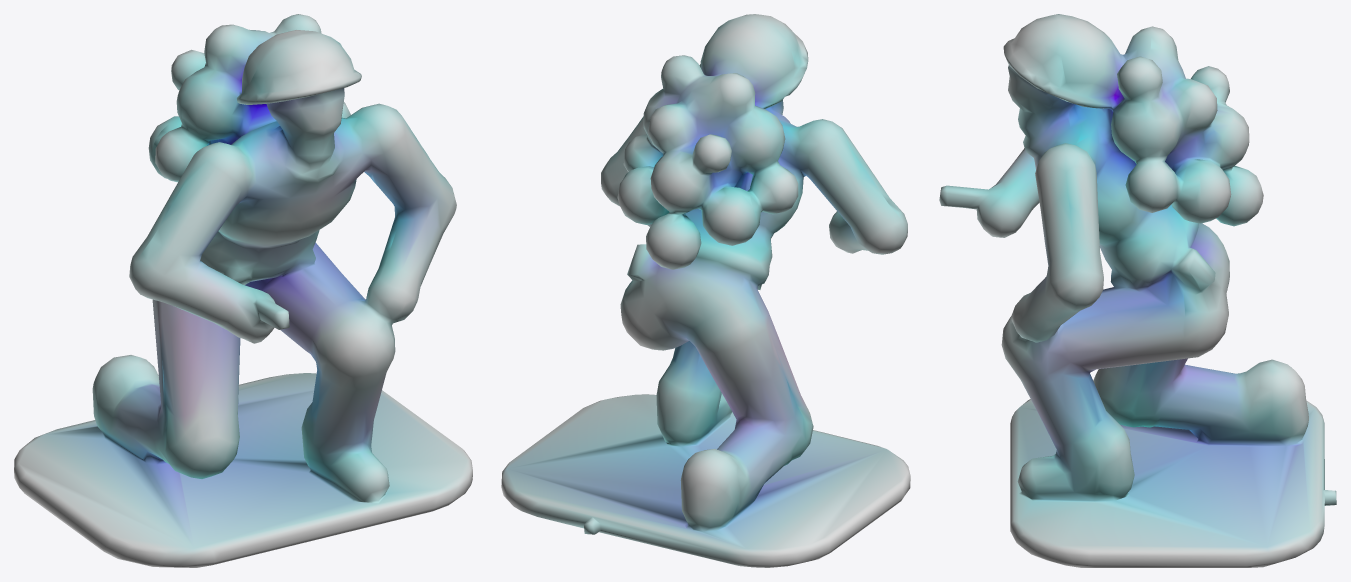
File: spion-lod1.glb
3 views of the same model, side by side, from view 1: azimuth 30°, elevation 25°; view 2: azimuth 150°, elevation 25°; view 3: azimuth 270°, elevation 25° (orthographic). The views are drawn at different scales.
Visible parts, largest first — view 1: spion-lod1; view 2: spion-lod1; view 3: spion-lod1.
Part boxes in pixels (left/top/right/bottom): spion-lod1: left=14, top=14, right=472, bottom=567; spion-lod1: left=501, top=14, right=910, bottom=567; spion-lod1: left=939, top=14, right=1336, bottom=567.
Size of the model in its own units: 0.4596 by 0.5899 by 0.4545.
